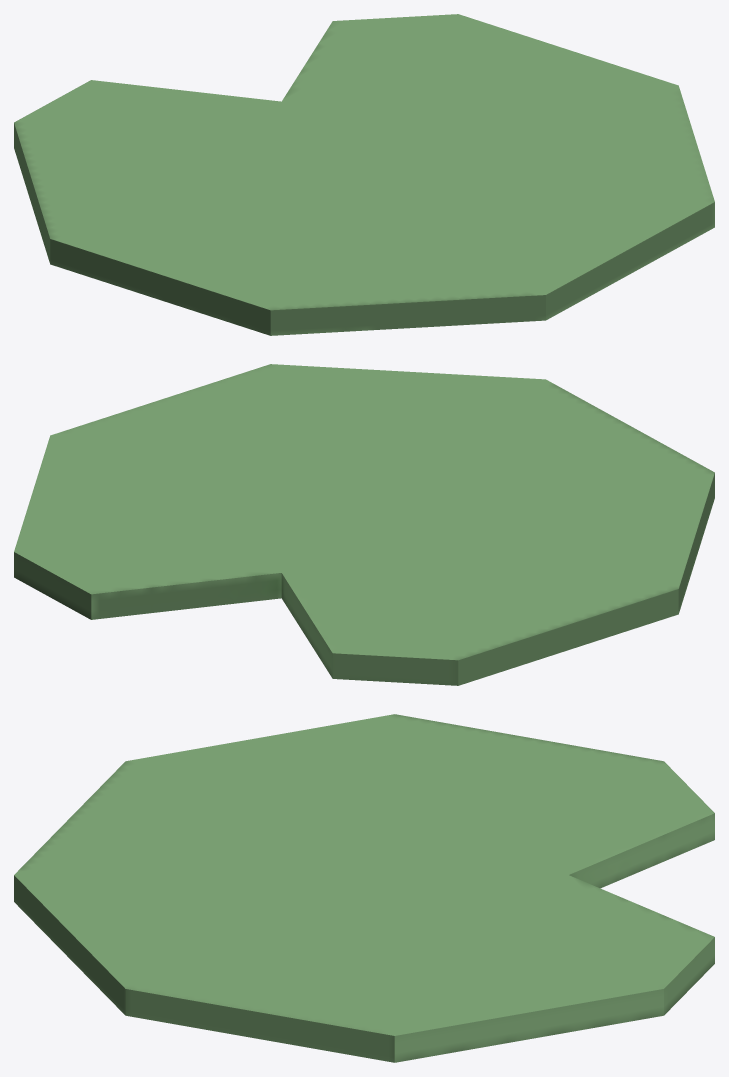
File: lilypad.glb
The picture shows the model from 3 angles, top to bottom: view 1: azimuth 30°, elevation 25°; view 2: azimuth 150°, elevation 25°; view 3: azimuth 270°, elevation 25°; orthographic projection. The views are drawn at different scales.
Parts seen in each view (by area): view 1: pad; view 2: pad; view 3: pad.
Boxes of the visible parts, x1=… form: pad: x1=14, y1=14, x2=714, y2=335; pad: x1=14, y1=364, x2=714, y2=685; pad: x1=14, y1=714, x2=714, y2=1062.
Size of the model in its own units: 0.9 by 0.035 by 0.8284.
Materials: 1 (1 with a texture image).
